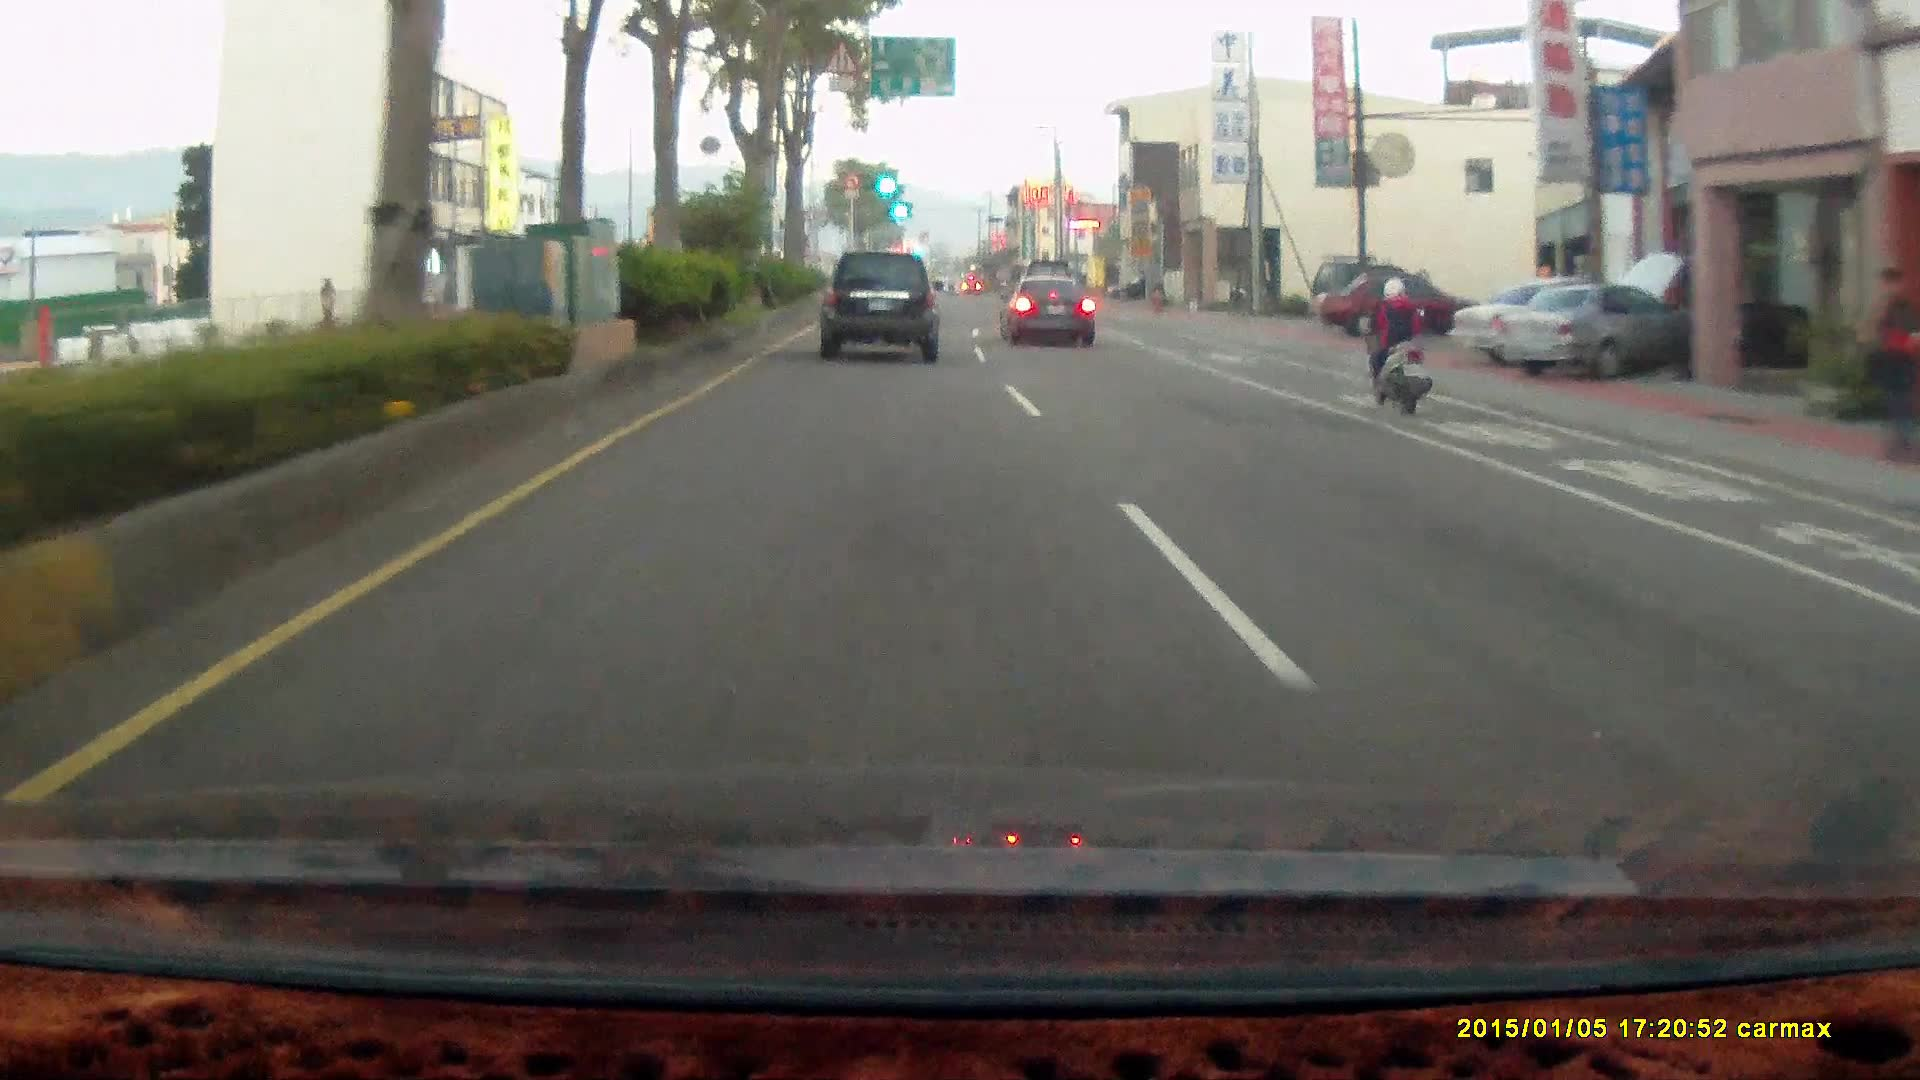pedestrian: (1858, 268, 1920, 465)
rider: (1352, 265, 1439, 425), (1360, 274, 1432, 411)
vehicle: (1494, 282, 1695, 378), (1494, 286, 1690, 381), (817, 254, 947, 370), (818, 248, 943, 358), (1315, 270, 1475, 341), (1319, 271, 1480, 336), (997, 271, 1095, 344), (1002, 274, 1100, 346), (1106, 275, 1160, 299)
